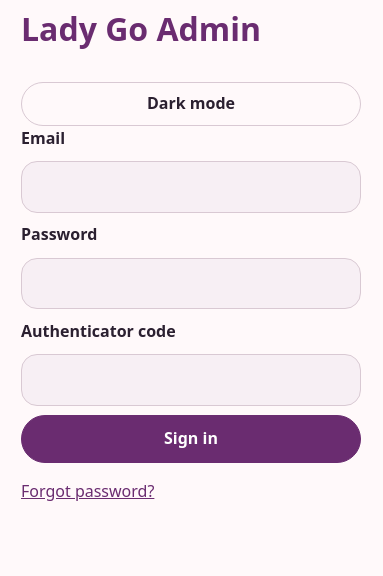
Test: Login › with MFA on › does not blame the authenticator code alone when sign-in fails
Type "a@b.co" into the field labelled "Email" at (191, 187), box [21,161,361,213]
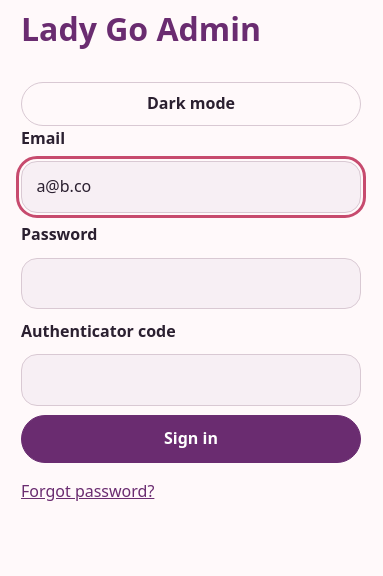
Type "pw-123456789" into the password field labelled "Password" at (191, 283), box [21,258,361,309]
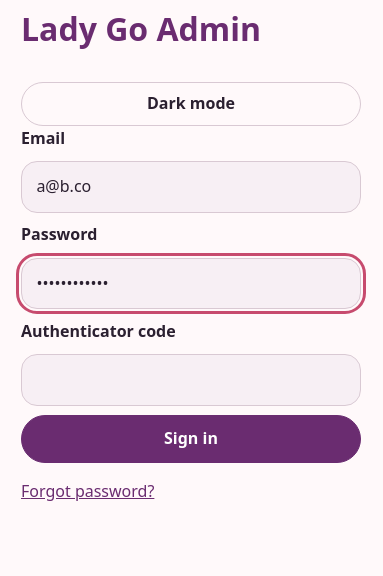
Type "123456" into the field labelled "Authenticator code" at (191, 380), box [21,354,361,406]
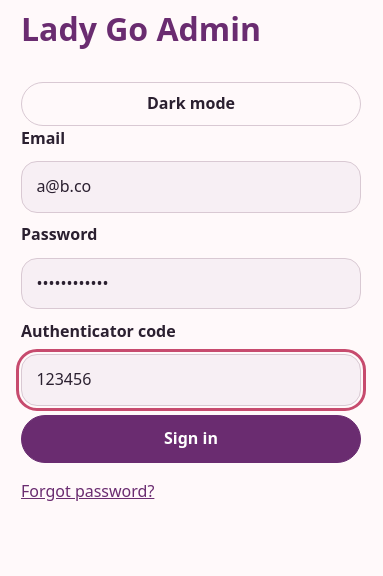
Click the button "Sign in" at (191, 439), box [21,415,361,463]
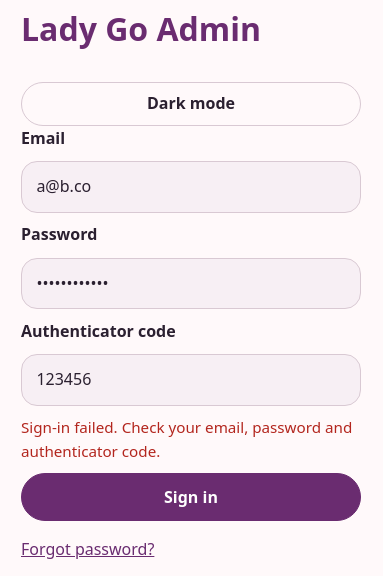
Expected: the message shows "email, password", [21,417,352,462]
